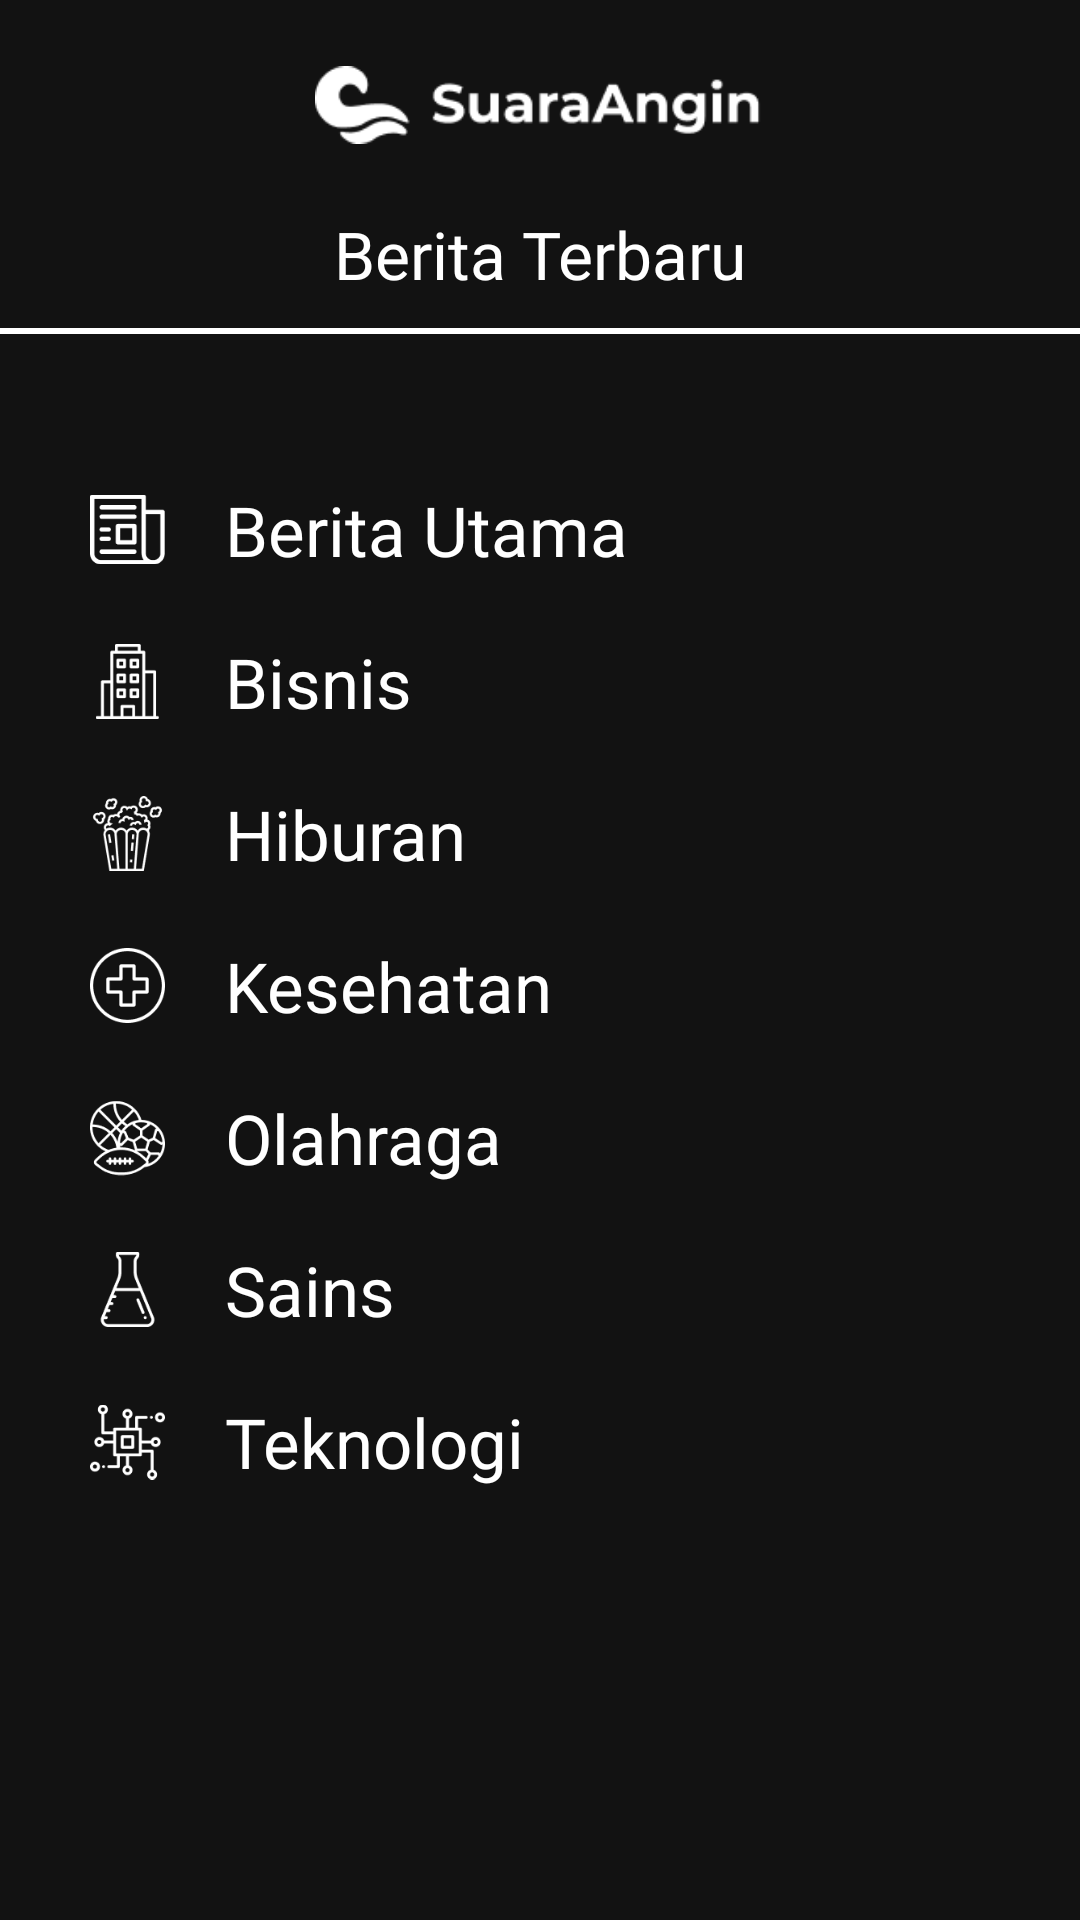

Where to tap for icons on this 1080px x 1920px app screen, as point (x, y):
business: point (127, 681)
entertainment: point (127, 833)
health: point (127, 985)
news: point (127, 529)
science: point (127, 1289)
sports: point (127, 1138)
tech: point (127, 1442)
